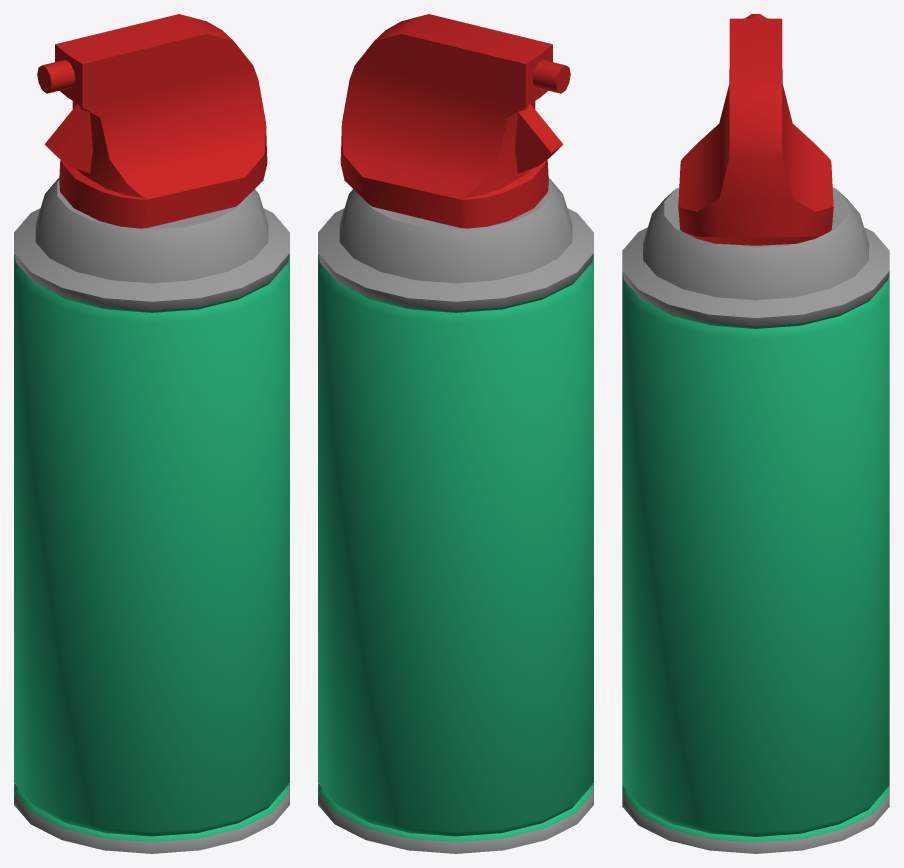
Rendered from gokizyetto_fbx_02.fbx.
3 views of the same model, side by side, from view 1: azimuth 30°, elevation 25°; view 2: azimuth 150°, elevation 25°; view 3: azimuth 270°, elevation 25° (orthographic). The views are drawn at different scales.
Visible parts, largest first — view 1: Cylinder001, Box001, Line002, Cylinder002; view 2: Cylinder001, Box001, Line002, Cylinder002; view 3: Cylinder001, Box001.
Boxes of the visible parts, <box> form: Cylinder001: <box>14,178,289,853</box>; Box001: <box>55,14,267,228</box>; Line002: <box>44,104,92,173</box>; Cylinder002: <box>37,59,75,93</box>; Cylinder001: <box>318,178,593,853</box>; Box001: <box>340,14,552,228</box>; Line002: <box>515,104,563,173</box>; Cylinder002: <box>532,59,570,93</box>; Cylinder001: <box>622,187,889,853</box>; Box001: <box>678,18,833,245</box>.
Size of the model in its own units: 35.18 by 105 by 34.64.
